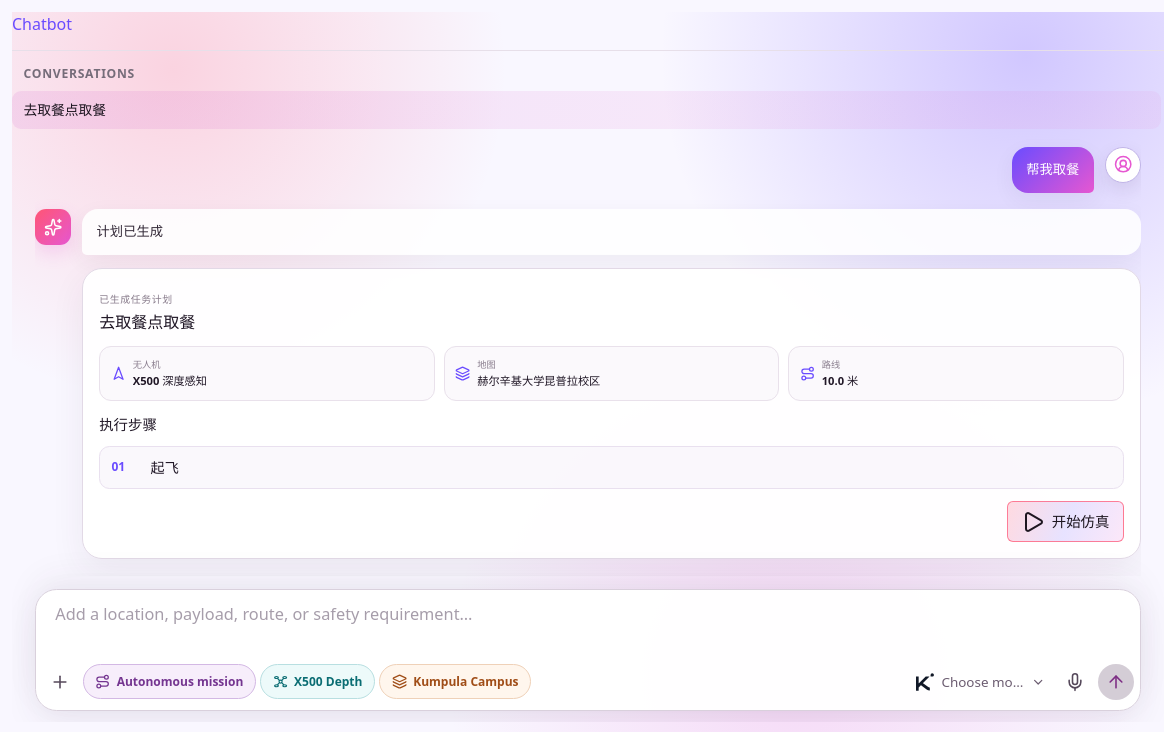
Chatbot to independent conversation › terminal completed state overrides an accepted start receipt
What coordinates should you click on to do the following:
click the button "开始仿真"
I would click on:
 (1065, 522)
Its box is x1=1007 y1=501 x2=1124 y2=542.
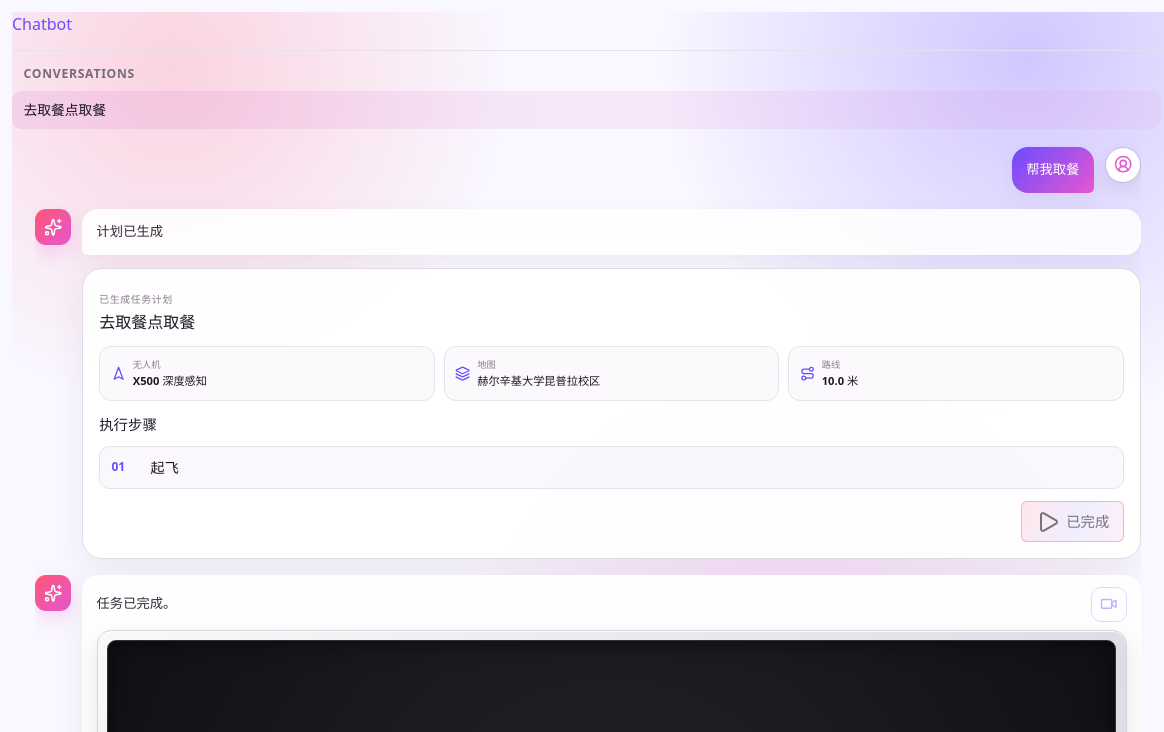
Expected: the button "已完成" is disabled, x1=1021 y1=501 x2=1124 y2=542
